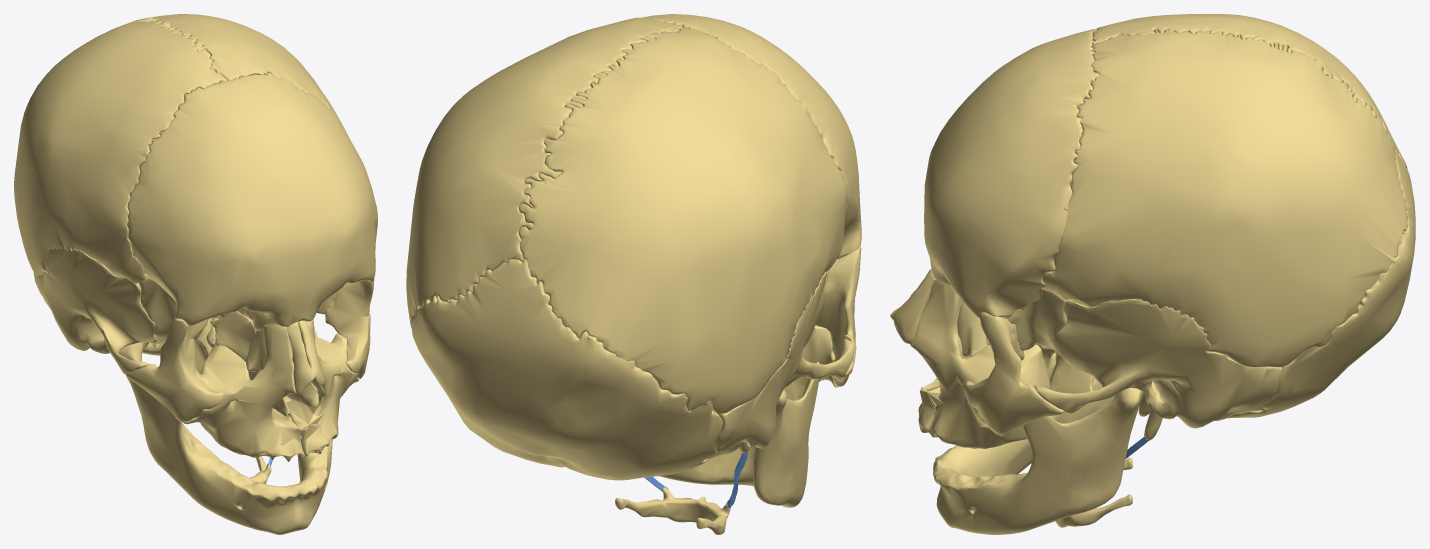
3 renders of one model, left to right at view 1: azimuth 30°, elevation 25°; view 2: azimuth 150°, elevation 25°; view 3: azimuth 270°, elevation 25°, orthographic. The views are drawn at different scales.
Visible parts, largest first — view 1: head-neck:frontal-bone:isa:FJ3200, head-neck:parietal-bone:isa:FJ3380, head-neck:mandible:isa:FJ3289, head-neck:maxilla:isa:FJ3375, head-neck:temporal-bone:isa:FJ3386, head-neck:parietal-bone:isa:FJ3274, head-neck:zygomatic-bone:isa:FJ3392, head-neck:maxilla:isa:FJ3269, head-neck:zygomatic-bone:isa:FJ3287, head-neck:sphenoid-bone:isa:FJ3394, head-neck:ethmoid:isa:FJ3199, head-neck:nasal-bone:isa:FJ3378 (+3 smaller); view 2: head-neck:parietal-bone:isa:FJ3380, head-neck:occiput:isa:FJ3309, head-neck:parietal-bone:isa:FJ3274, head-neck:frontal-bone:isa:FJ3200, head-neck:mandible:isa:FJ3289, head-neck:temporal-bone:isa:FJ3386, head-neck:zygomatic-bone:isa:FJ3392, head-neck:hyoid-bone:isa:FJ2772, head-neck:maxilla:isa:FJ3375; view 3: head-neck:parietal-bone:isa:FJ3274, head-neck:frontal-bone:isa:FJ3200, head-neck:mandible:isa:FJ3289, head-neck:temporal-bone:isa:FJ3281, head-neck:maxilla:isa:FJ3269, head-neck:occiput:isa:FJ3309, head-neck:parietal-bone:isa:FJ3380, head-neck:zygomatic-bone:isa:FJ3287, head-neck:sphenoid-bone:isa:FJ3394, head-neck:nasal-bone:isa:FJ3272, head-neck:lacrimal-bone:isa:FJ3265, head-neck:hyoid-bone:isa:FJ2772.
Part boxes in pixels (x1,y1,x2,y2): head-neck:frontal-bone:isa:FJ3200: (127, 72, 377, 331); head-neck:parietal-bone:isa:FJ3380: (14, 18, 227, 283); head-neck:mandible:isa:FJ3289: (118, 327, 332, 534); head-neck:maxilla:isa:FJ3375: (183, 324, 305, 461); head-neck:temporal-bone:isa:FJ3386: (33, 246, 155, 380); head-neck:parietal-bone:isa:FJ3274: (139, 14, 349, 138); head-neck:zygomatic-bone:isa:FJ3392: (126, 318, 223, 422); head-neck:maxilla:isa:FJ3269: (273, 319, 358, 456); head-neck:zygomatic-bone:isa:FJ3287: (325, 277, 374, 378); head-neck:sphenoid-bone:isa:FJ3394: (139, 275, 347, 374); head-neck:ethmoid:isa:FJ3199: (210, 311, 256, 361); head-neck:nasal-bone:isa:FJ3378: (287, 322, 314, 394); head-neck:parietal-bone:isa:FJ3380: (518, 26, 847, 413); head-neck:occiput:isa:FJ3309: (410, 259, 722, 480); head-neck:parietal-bone:isa:FJ3274: (406, 17, 682, 328); head-neck:frontal-bone:isa:FJ3200: (643, 14, 861, 258); head-neck:mandible:isa:FJ3289: (659, 362, 819, 507); head-neck:temporal-bone:isa:FJ3386: (706, 267, 854, 459); head-neck:zygomatic-bone:isa:FJ3392: (815, 244, 861, 386); head-neck:hyoid-bone:isa:FJ2772: (615, 487, 730, 534); head-neck:maxilla:isa:FJ3375: (784, 325, 837, 400); head-neck:parietal-bone:isa:FJ3274: (1042, 29, 1407, 367); head-neck:frontal-bone:isa:FJ3200: (924, 28, 1099, 317); head-neck:mandible:isa:FJ3289: (933, 378, 1143, 534); head-neck:temporal-bone:isa:FJ3281: (1034, 299, 1282, 440); head-neck:maxilla:isa:FJ3269: (910, 280, 1049, 448); head-neck:occiput:isa:FJ3309: (1226, 149, 1415, 418); head-neck:parietal-bone:isa:FJ3380: (1092, 14, 1407, 169); head-neck:zygomatic-bone:isa:FJ3287: (964, 312, 1063, 435); head-neck:sphenoid-bone:isa:FJ3394: (1005, 289, 1094, 413); head-neck:nasal-bone:isa:FJ3272: (893, 268, 935, 343); head-neck:lacrimal-bone:isa:FJ3265: (957, 301, 987, 356); head-neck:hyoid-bone:isa:FJ2772: (1055, 457, 1132, 527).
Bounding box in the file's own units: 0.151 × 0.2146 × 0.2088.
